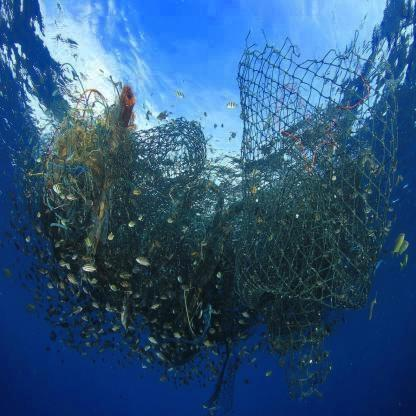net: (70, 58, 393, 320)
